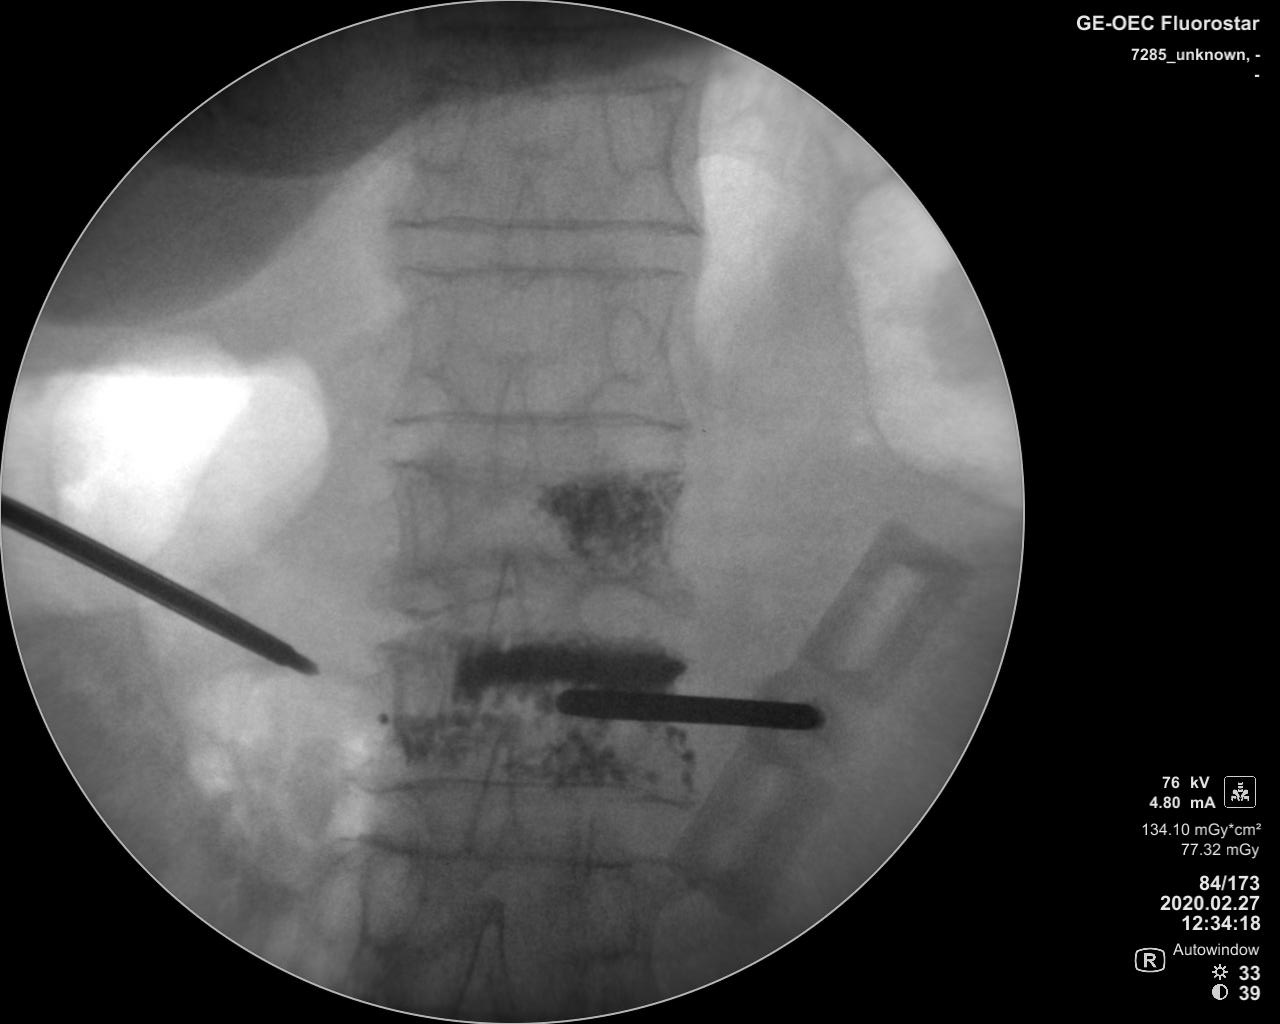eyes: (385, 464, 453, 578), (601, 82, 670, 182), (409, 77, 478, 174), (356, 845, 423, 945), (577, 871, 646, 961), (604, 302, 658, 380)
line: (353, 772, 696, 815), (352, 830, 667, 872), (388, 209, 708, 240), (381, 405, 696, 437), (405, 66, 692, 98), (388, 257, 702, 283)
nose: (456, 897, 521, 1023), (465, 730, 518, 861), (487, 550, 527, 698), (502, 177, 549, 293), (493, 358, 531, 495)
